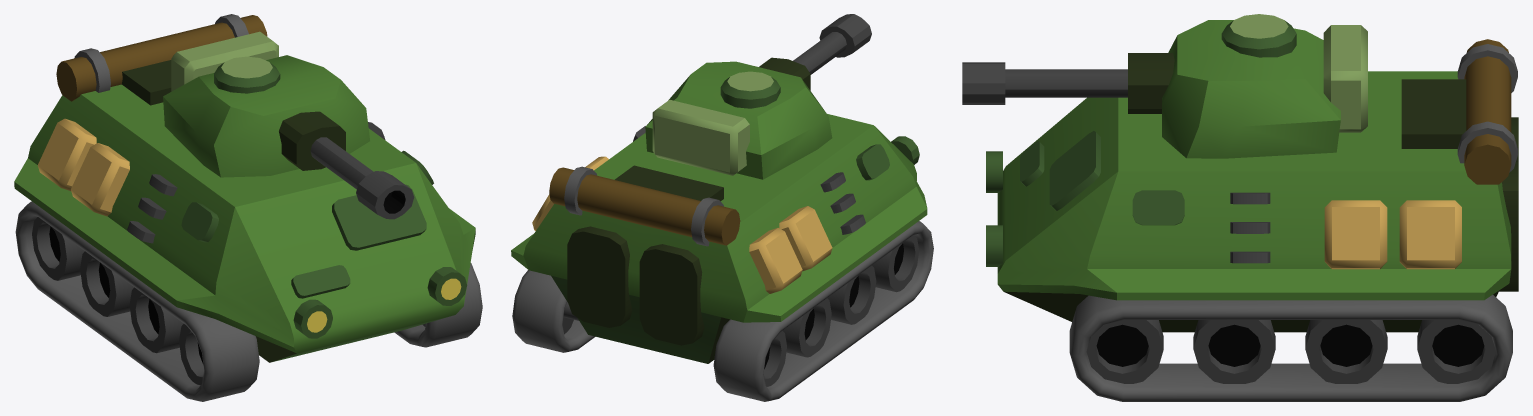
Rendered from Tank 2.fbx.
3 views of the same model, side by side, from view 1: azimuth 30°, elevation 25°; view 2: azimuth 150°, elevation 25°; view 3: azimuth 270°, elevation 25° (orthographic). The views are drawn at different scales.
Visible parts, largest first — view 1: Cube.417, Circle.017, Cube.422, Cylinder.460, Cylinder.462, Cube.419, Cube.418, Cube.425, Cylinder.459, Cylinder.516, Cylinder.517, Cylinder.518 (+5 smaller); view 2: Cube.417, Circle.017, Cube.423, Cube.422, Cylinder.462, Cube.425, Cube.419, Cylinder.460, Cylinder.461, Cylinder.517, Cylinder.516, Cylinder.515 (+4 smaller); view 3: Cube.417, Circle.017, Cube.422, Cube.419, Cylinder.460, Cylinder.462, Cylinder.520, Cylinder.521, Cube.425, Cylinder.519, Cylinder.463, Cylinder.461 (+6 smaller).
Boxes of the visible parts, x1,y1,x2,y2 form: Cube.417: [14, 60, 475, 362]; Circle.017: [15, 201, 482, 401]; Cube.422: [163, 55, 369, 177]; Cylinder.460: [279, 111, 414, 219]; Cylinder.462: [56, 14, 267, 101]; Cube.419: [37, 118, 129, 216]; Cube.418: [332, 184, 426, 250]; Cube.425: [171, 31, 278, 91]; Cylinder.459: [293, 267, 467, 338]; Cylinder.516: [129, 287, 183, 353]; Cylinder.517: [80, 251, 134, 316]; Cylinder.518: [32, 217, 84, 280]; Cube.417: [511, 114, 927, 363]; Circle.017: [512, 221, 933, 401]; Cube.423: [567, 226, 704, 345]; Cube.422: [645, 61, 832, 179]; Cylinder.462: [549, 166, 740, 246]; Cube.425: [652, 99, 749, 175]; Cube.419: [532, 156, 832, 293]; Cylinder.460: [759, 14, 871, 90]; Cylinder.461: [720, 71, 780, 108]; Cylinder.517: [783, 298, 831, 357]; Cylinder.516: [827, 265, 876, 324]; Cylinder.515: [872, 235, 918, 292]; Cube.417: [997, 71, 1511, 332]; Circle.017: [1069, 295, 1512, 401]; Cube.422: [1162, 20, 1340, 158]; Cube.419: [1324, 200, 1461, 269]; Cylinder.460: [962, 53, 1174, 113]; Cylinder.462: [1457, 39, 1517, 184]; Cylinder.520: [1305, 320, 1387, 383]; Cylinder.521: [1193, 320, 1275, 383]; Cube.425: [1323, 25, 1367, 132]; Cylinder.519: [1417, 320, 1495, 383]; Cylinder.463: [1086, 320, 1163, 383]; Cylinder.461: [1221, 14, 1296, 57].
Bounding box in the file's own units: 870 × 722 × 1241.
